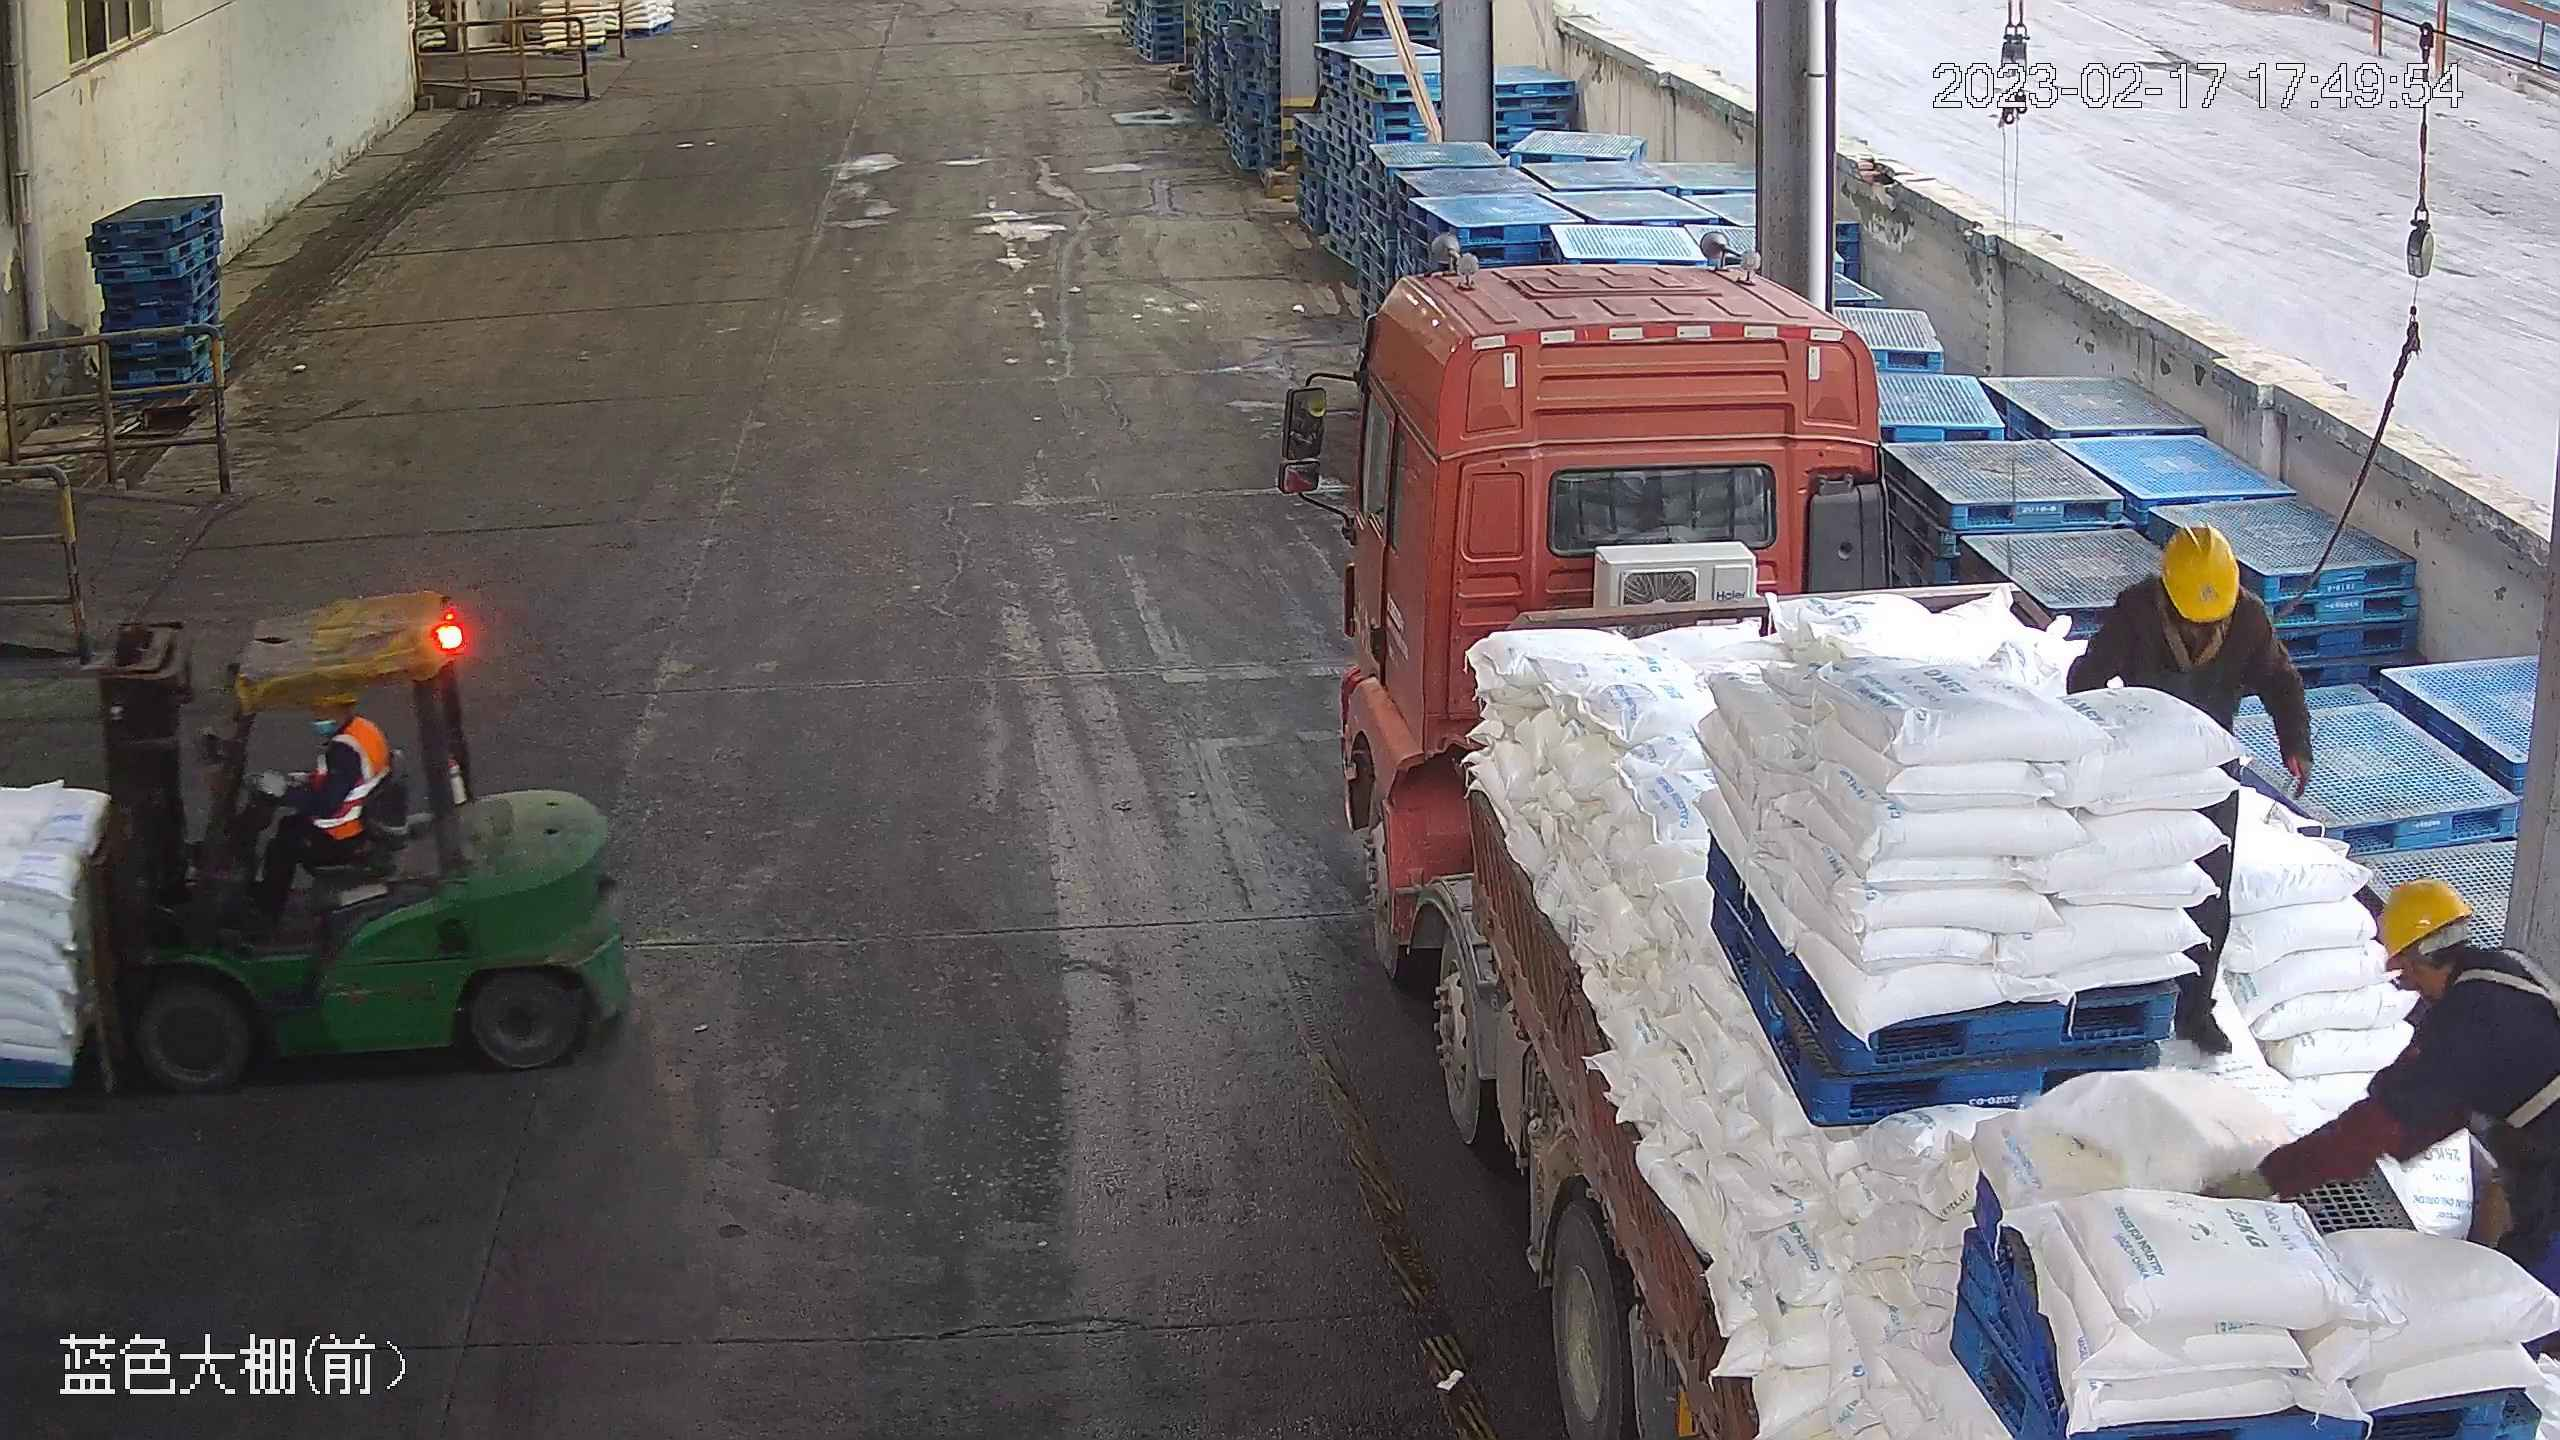belt: (2460, 951, 2559, 1131), (2133, 542, 2257, 661), (2158, 593, 2242, 666)
head: (2354, 877, 2555, 1077), (2105, 521, 2276, 660), (308, 689, 388, 775)
helmet: (2366, 872, 2480, 957), (2159, 520, 2237, 622)
people: (2195, 875, 2560, 1431), (235, 686, 390, 909)
truck: (1267, 248, 2560, 1440)
